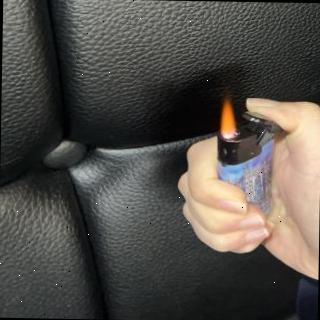fire: (218, 99, 238, 138)
